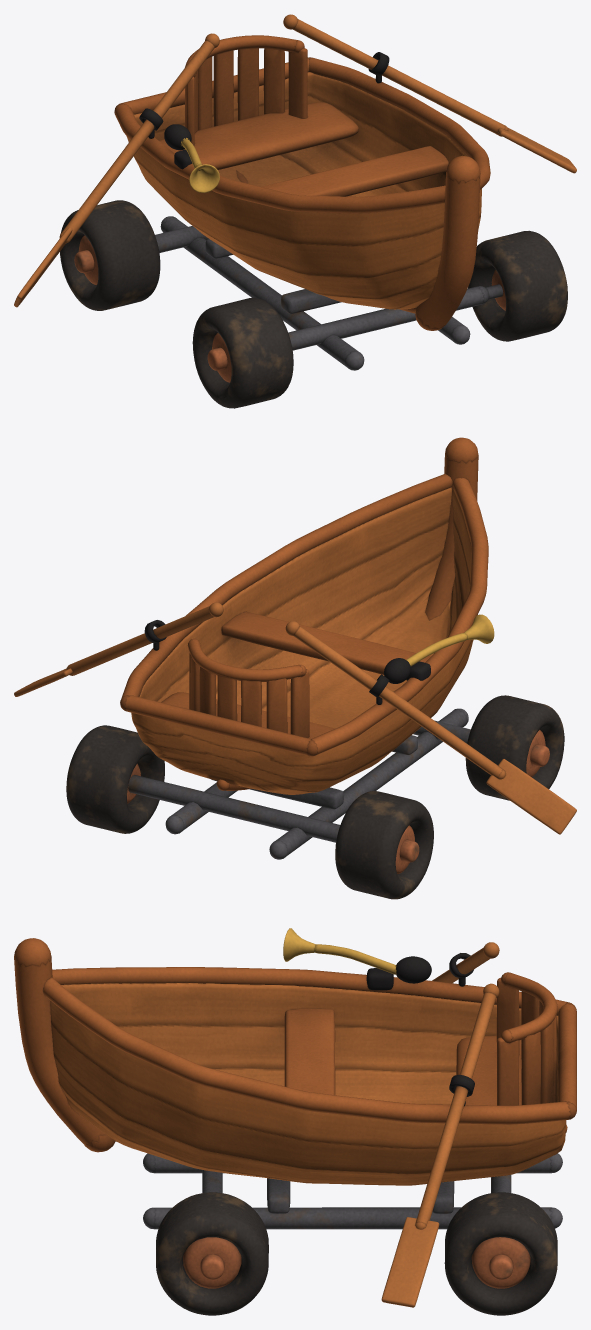
The model's file is kart.glb.
3 views of the same model, one above another, from view 1: azimuth 30°, elevation 25°; view 2: azimuth 150°, elevation 25°; view 3: azimuth 270°, elevation 25° (orthographic). The views are drawn at different scales.
Parts seen in each view (by area): view 1: body, wheel_FR, wheel_FL, wheel_RR, oar_L, oar_R, horn_bulb; view 2: body, wheel_RR, wheel_RL, wheel_FR, oar_R, oar_L; view 3: body, wheel_RL, wheel_FL, oar_L, oar_R, horn_bulb.
Part boxes in pixels (x1=…): body: x1=114, y1=35, x2=490, y2=370; wheel_FR: x1=192, y1=297, x2=293, y2=408; wheel_FL: x1=468, y1=230, x2=567, y2=341; wheel_RR: x1=60, y1=200, x2=160, y2=310; oar_L: x1=283, y1=14, x2=576, y2=173; oar_R: x1=14, y1=33, x2=219, y2=307; horn_bulb: x1=164, y1=124, x2=191, y2=150; body: x1=120, y1=437, x2=494, y2=859; wheel_RR: x1=335, y1=791, x2=433, y2=899; wheel_RL: x1=66, y1=725, x2=164, y2=833; wheel_FR: x1=465, y1=695, x2=564, y2=800; oar_R: x1=285, y1=621, x2=576, y2=834; oar_L: x1=14, y1=602, x2=223, y2=696; body: x1=14, y1=928, x2=576, y2=1229; wheel_RL: x1=444, y1=1192, x2=557, y2=1315; wheel_FL: x1=156, y1=1192, x2=268, y2=1315; oar_L: x1=381, y1=983, x2=499, y2=1307; oar_R: x1=432, y1=942, x2=499, y2=983; horn_bulb: x1=396, y1=956, x2=431, y2=983.
Bounding box in the file's own units: 1.8 × 0.8279 × 1.44.
1 material, 1 textured.
